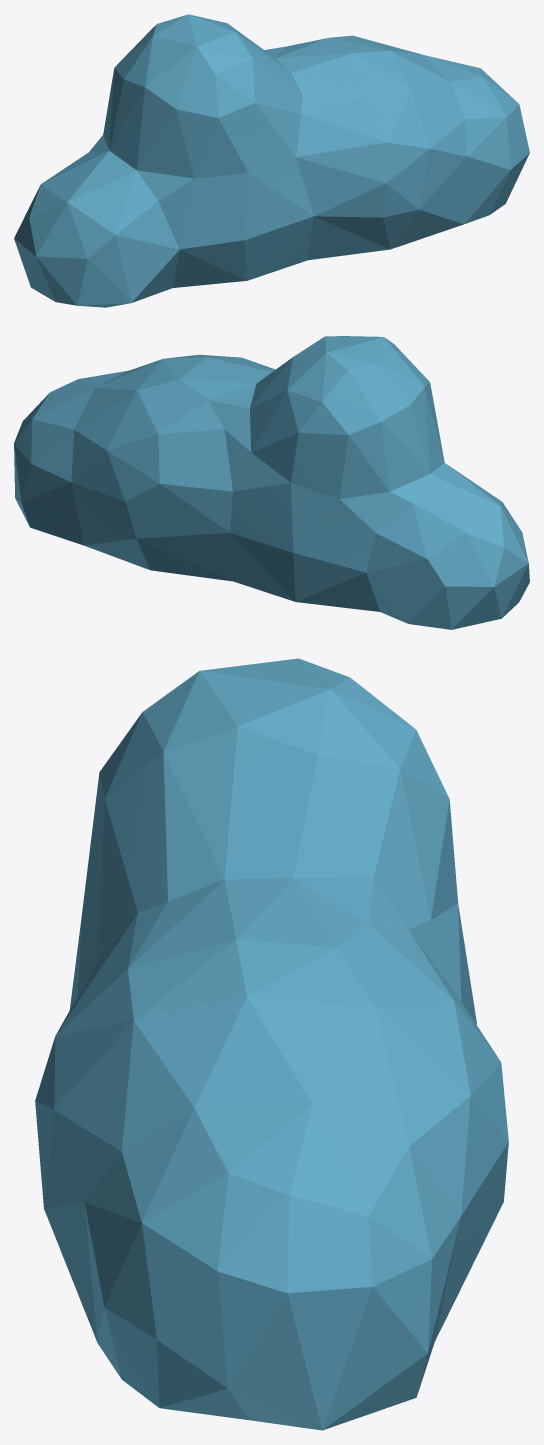
The model's file is small_cloud_26.fbx.
3 renders of one model, top to bottom at view 1: azimuth 30°, elevation 25°; view 2: azimuth 150°, elevation 25°; view 3: azimuth 270°, elevation 25°, orthographic. The views are drawn at different scales.
Parts seen in each view (by area): view 1: cloud_36; view 2: cloud_36; view 3: cloud_36.
Boxes of the visible parts, x1,y1,x2,y2 form: cloud_36: (14,14,529,307); cloud_36: (14,336,529,629); cloud_36: (35,658,508,1430).
Size of the model in its own units: 559 by 258 by 236.
